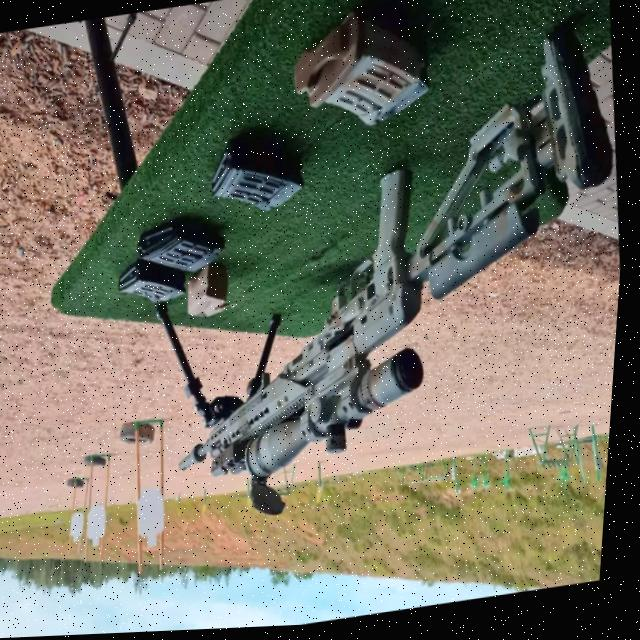firearm: (139, 31, 637, 531)
